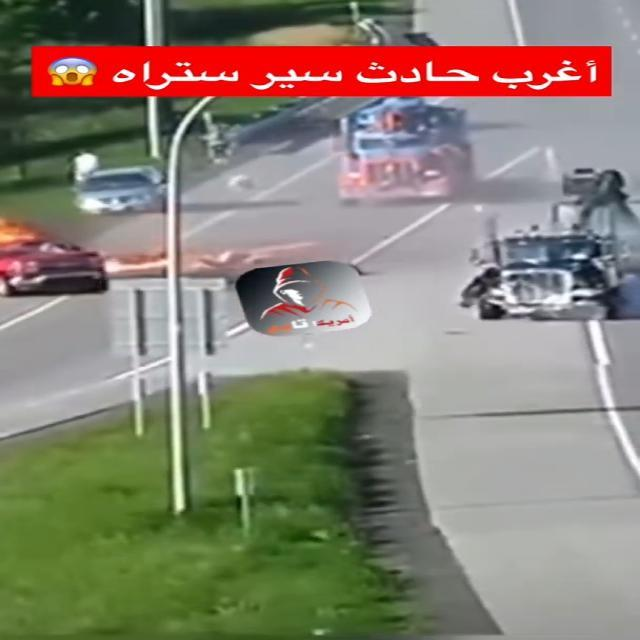accident: (471, 165, 640, 331)
